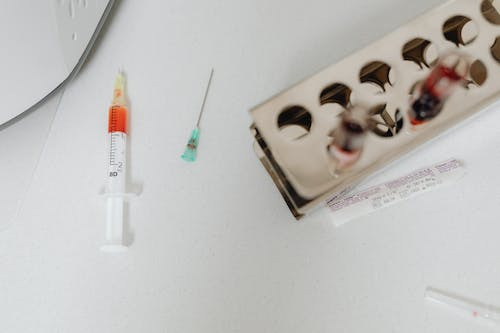blood: (408, 63, 460, 127), (332, 118, 363, 162), (106, 85, 128, 136)
